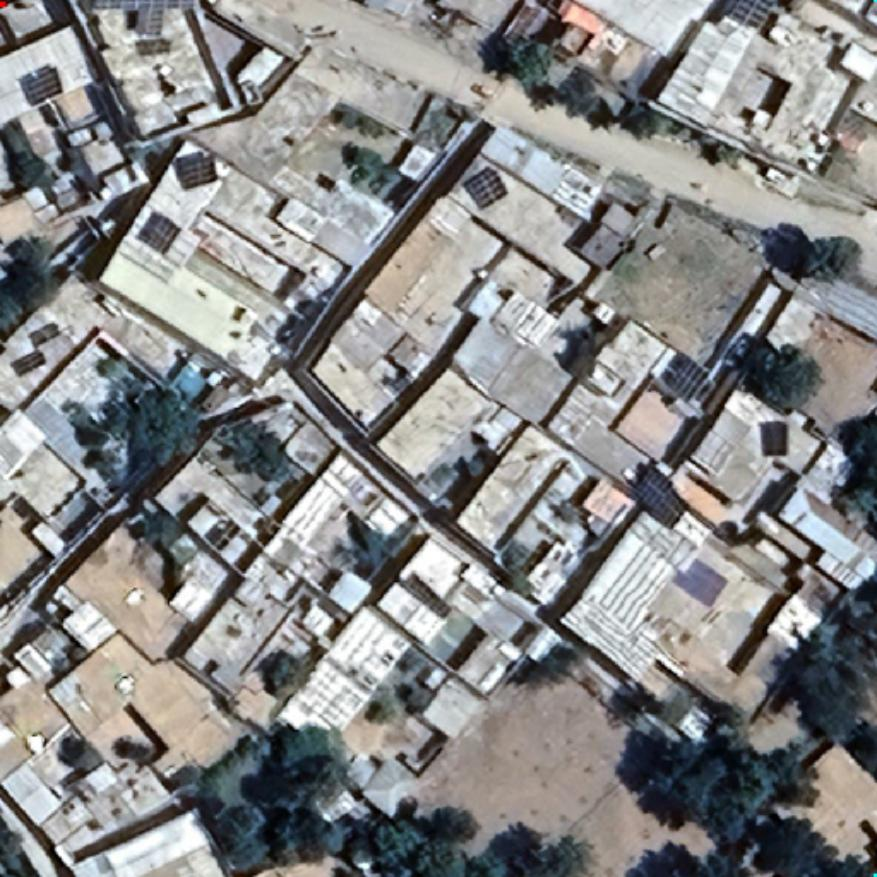Solarpanel: (632, 464, 690, 531), (664, 354, 714, 406), (17, 61, 67, 111), (462, 164, 512, 212), (136, 209, 184, 255), (176, 150, 220, 190), (726, 0, 777, 30), (6, 349, 51, 381), (94, 0, 196, 12), (27, 318, 61, 347)
